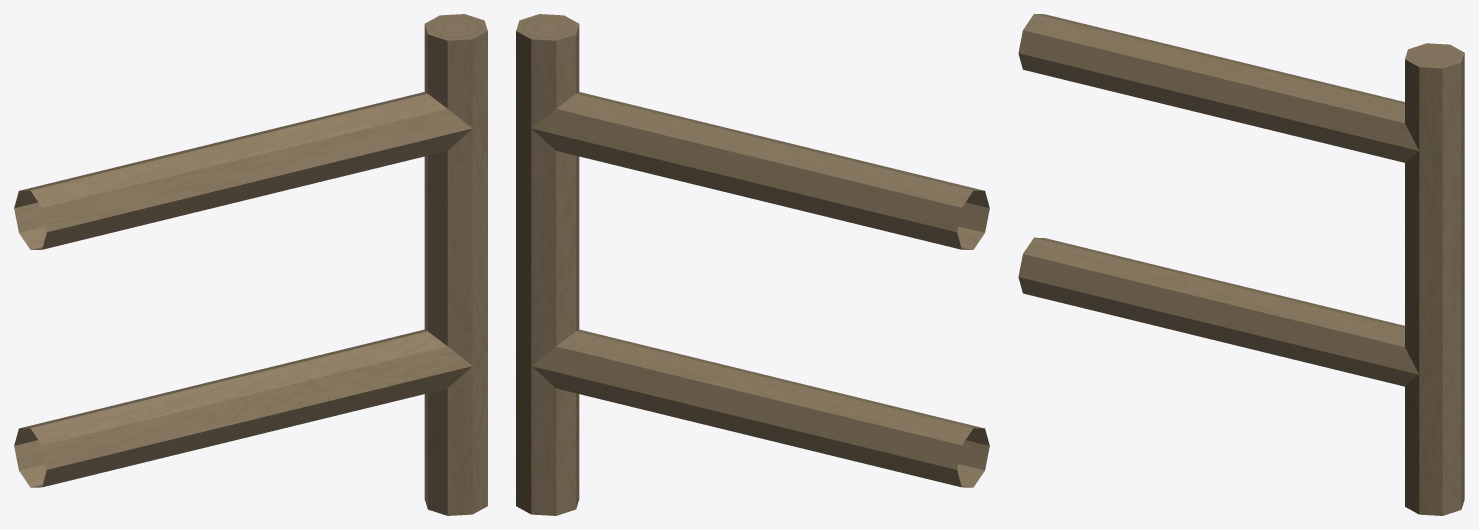
File: Fence.obj
The picture shows the model from 3 angles, left to right: view 1: azimuth 30°, elevation 25°; view 2: azimuth 150°, elevation 25°; view 3: azimuth 330°, elevation 25°; orthographic projection. The views are drawn at different scales.
Parts seen in each view (by area): view 1: 円柱; view 2: 円柱; view 3: 円柱.
Boxes of the visible parts, bbox=[...] form: 円柱: bbox=[14, 14, 487, 515]; 円柱: bbox=[516, 14, 989, 515]; 円柱: bbox=[1018, 14, 1464, 515].
Size of the model in its own units: 3.2 by 3.2 by 0.4.
1 material, 1 textured.
